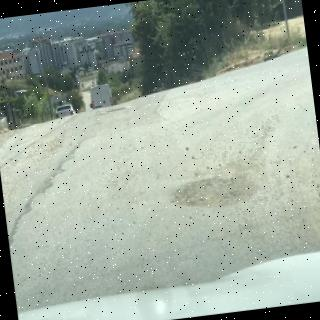pothole: (171, 174, 258, 208)
